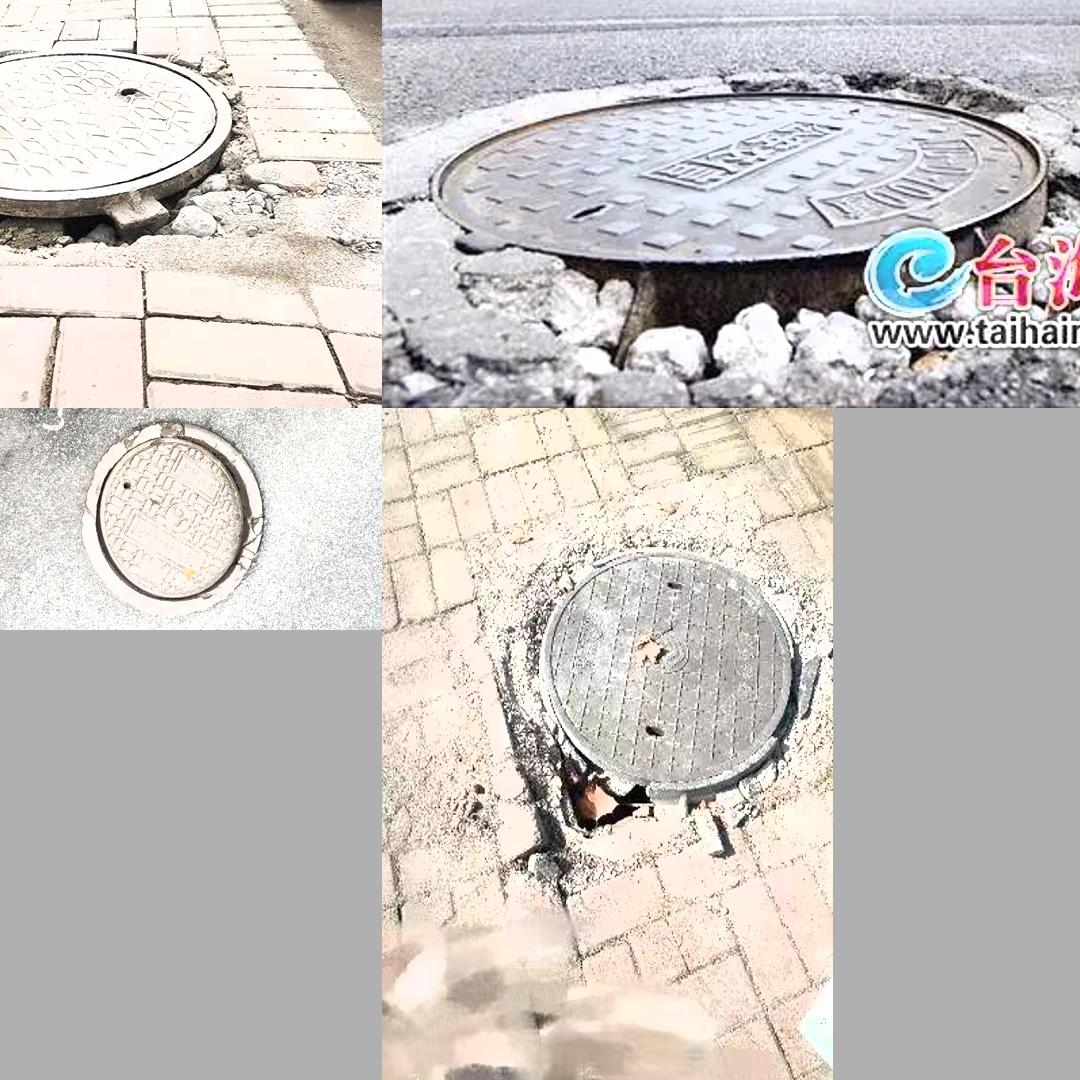circle: (397, 68, 1080, 374), (494, 531, 833, 825), (0, 35, 294, 295), (70, 420, 288, 614)
